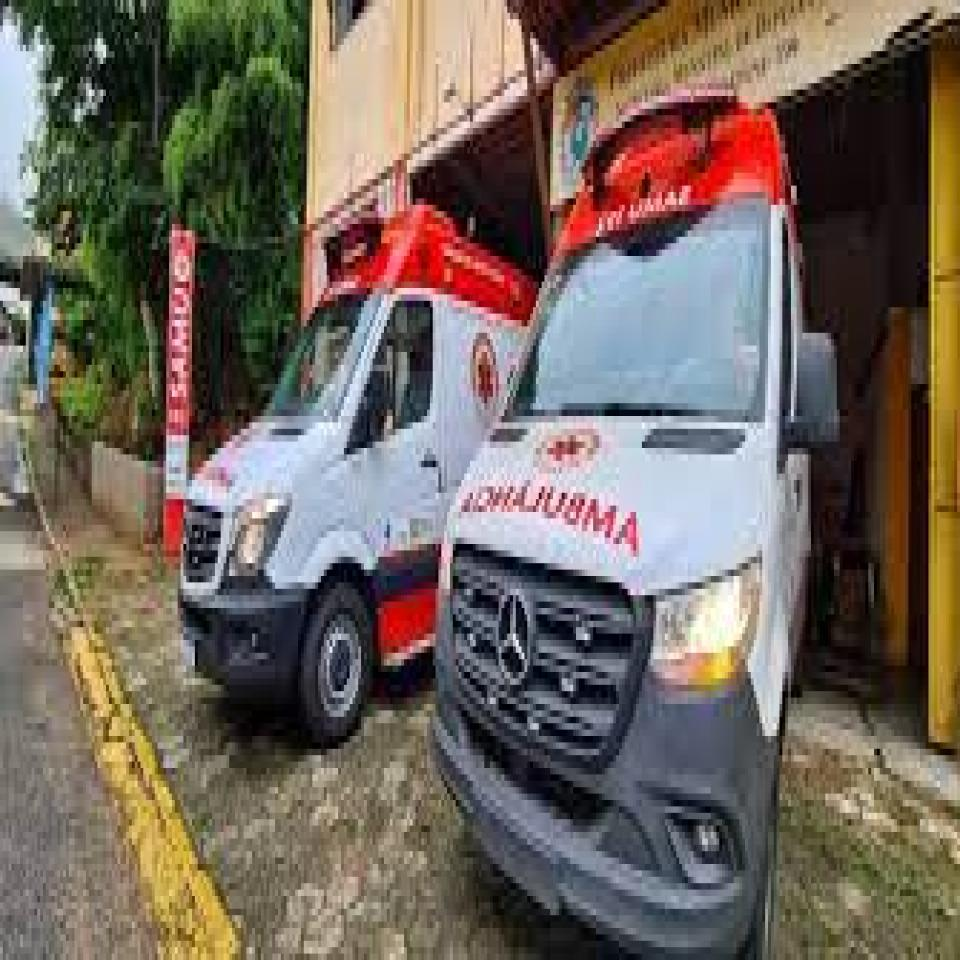bombeiro: (432, 81, 836, 960), (178, 201, 542, 737)
